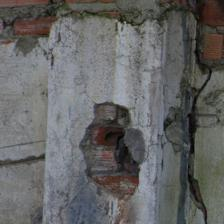Crack: (26, 61, 122, 160), (55, 0, 87, 107), (78, 144, 131, 172), (64, 104, 140, 120)
